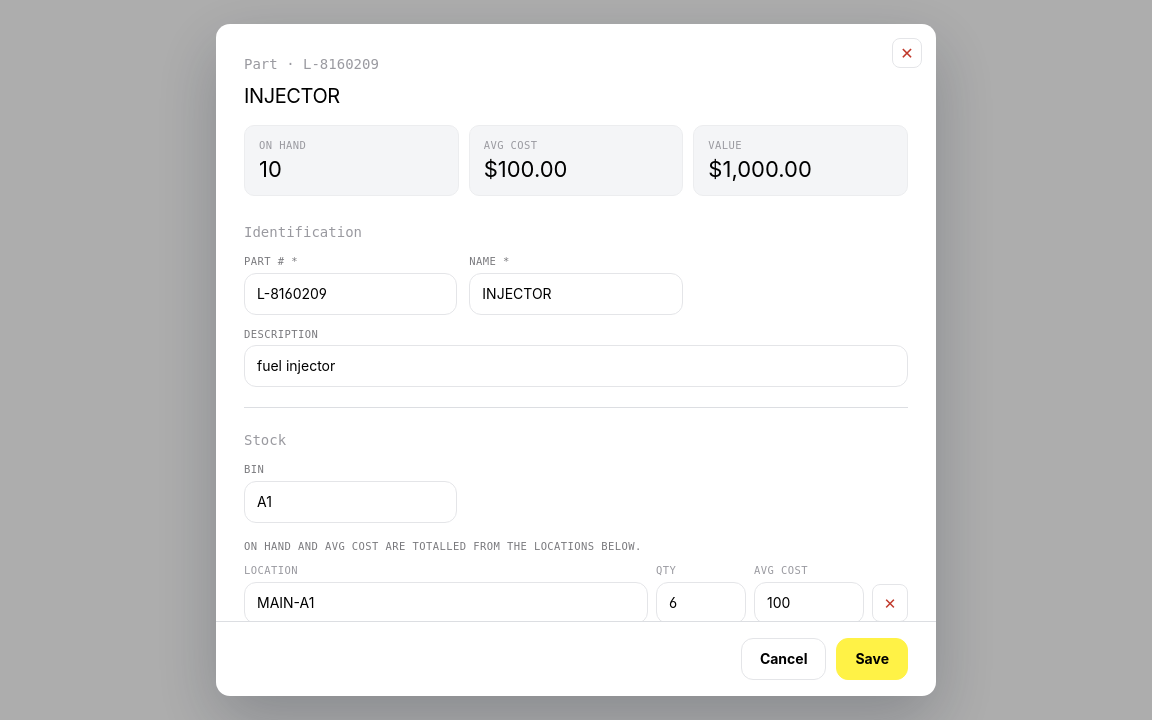
PartDetailModal › discarding › asks before dropping edits
Type "!" into the field showing "INJECTOR" at (576, 294), box [469,273,683,315]
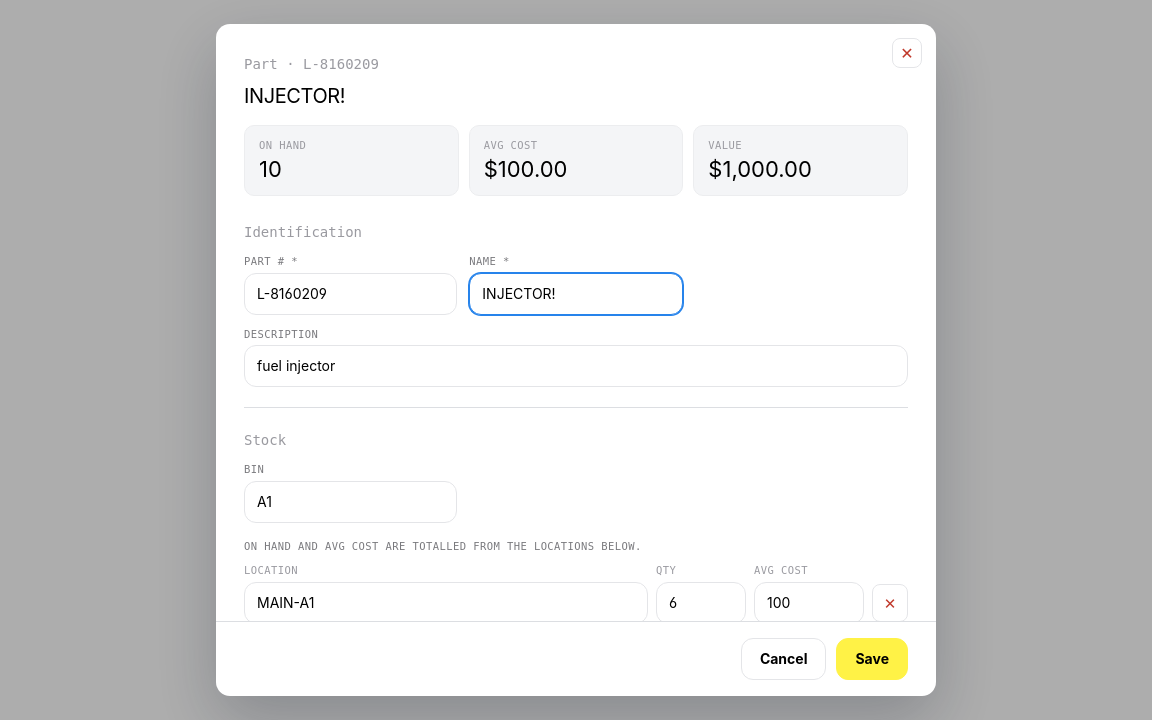
Press Escape
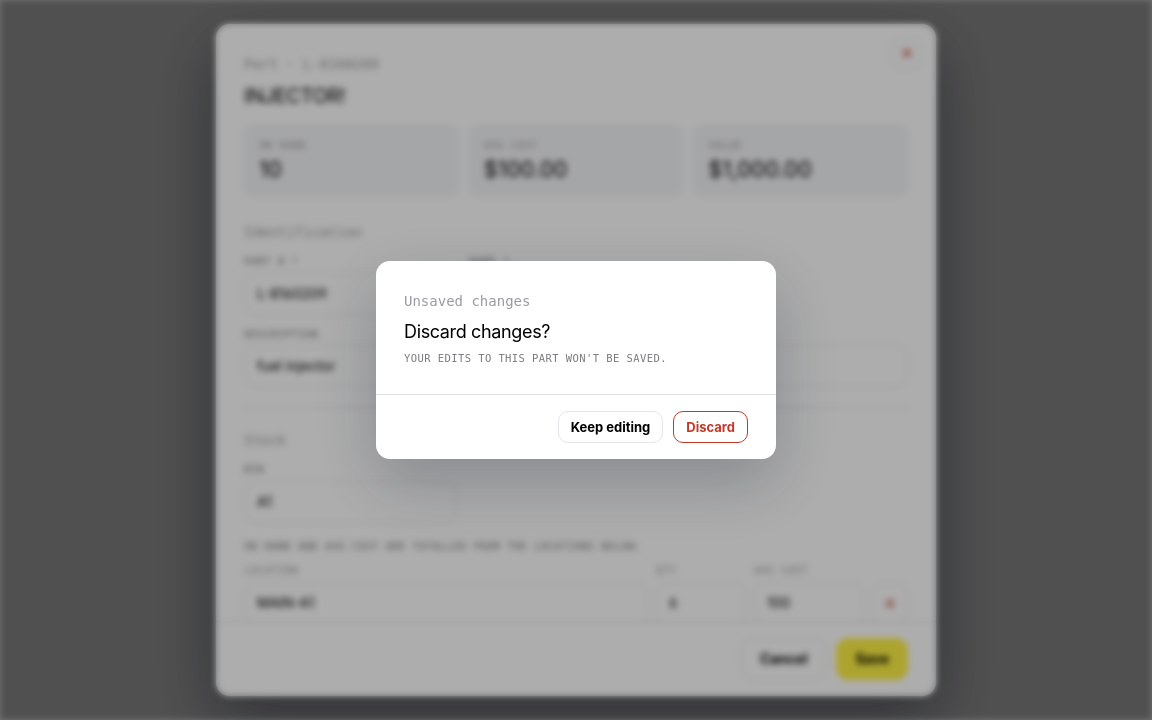
Expected: the text "Discard" is shown, [404,320,550,342]
